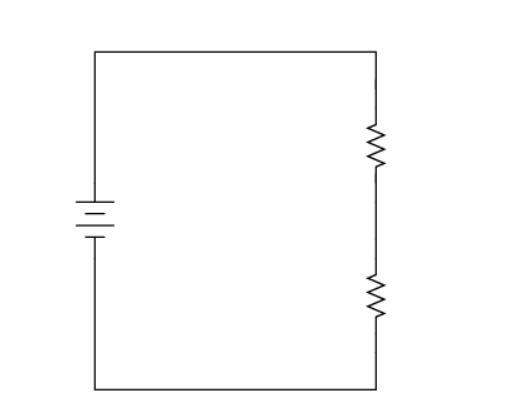resistor: (337, 239, 417, 343), (342, 97, 400, 186)
